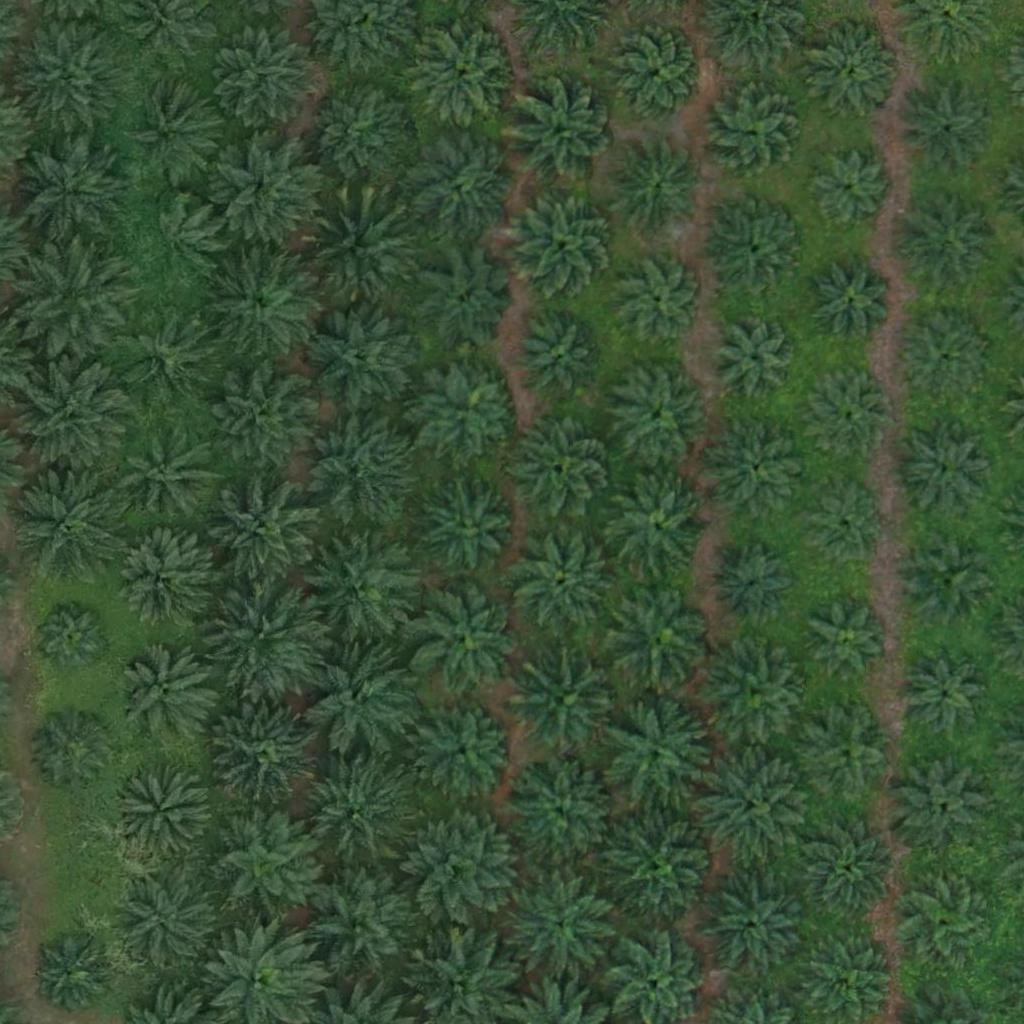Kelapa_Sawit: (11, 460, 124, 574), (209, 20, 322, 133), (505, 77, 618, 190), (507, 187, 620, 300), (306, 300, 419, 413), (302, 410, 415, 523), (211, 134, 324, 247), (202, 247, 315, 360), (208, 364, 321, 477), (210, 582, 323, 695), (211, 699, 324, 812), (307, 530, 420, 643), (304, 644, 417, 757), (298, 755, 411, 868), (306, 870, 419, 983), (406, 810, 519, 923), (599, 697, 712, 810), (697, 749, 810, 862), (700, 869, 813, 982), (208, 475, 320, 589), (15, 241, 127, 355), (17, 358, 129, 472), (14, 20, 126, 133), (304, 80, 416, 193), (303, 195, 415, 308), (13, 135, 125, 248), (206, 808, 318, 921), (411, 584, 523, 697), (506, 523, 618, 636), (513, 650, 625, 763), (506, 756, 618, 869), (506, 875, 618, 988), (606, 815, 718, 928), (896, 76, 996, 177), (709, 417, 809, 518), (607, 136, 707, 237), (608, 364, 708, 465), (608, 481, 708, 582), (512, 418, 612, 519), (411, 23, 511, 124), (408, 135, 508, 236), (417, 251, 517, 352), (418, 361, 518, 462), (415, 475, 515, 576), (123, 81, 223, 182), (111, 532, 211, 633), (117, 644, 217, 745), (112, 762, 212, 863), (417, 701, 517, 802), (899, 529, 999, 630), (899, 192, 999, 292), (894, 419, 994, 519), (804, 20, 904, 120), (703, 82, 803, 182), (707, 198, 807, 298), (607, 23, 707, 123), (115, 308, 215, 408), (119, 427, 219, 527), (122, 876, 222, 976), (609, 585, 709, 685), (707, 645, 807, 745), (795, 703, 895, 803), (893, 751, 993, 851), (807, 149, 895, 237), (516, 313, 604, 401), (132, 198, 220, 286), (901, 652, 989, 740), (900, 874, 988, 962), (902, 320, 989, 408), (714, 312, 801, 400), (616, 256, 703, 344), (30, 708, 117, 796), (807, 823, 894, 911), (816, 266, 891, 342), (814, 377, 889, 453), (35, 936, 110, 1012), (717, 547, 792, 623), (811, 600, 886, 676), (806, 492, 881, 567), (33, 600, 108, 675)
